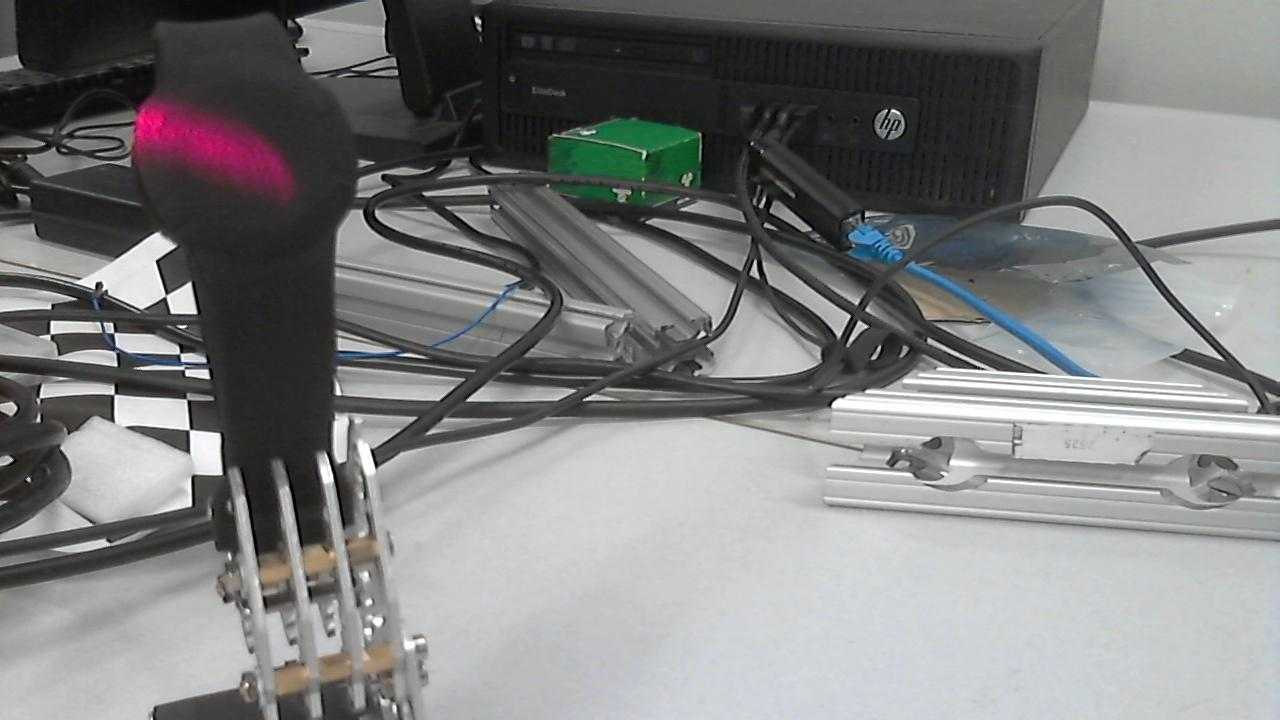Object fitness tracker replacement band - Material silicone - Pdfname fdfasdjhad: (114, 103, 315, 217)
